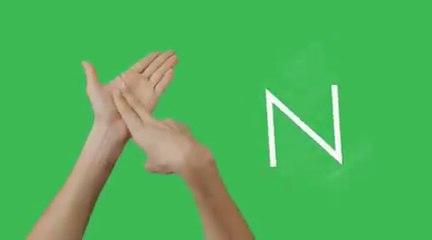N: (70, 45, 231, 190)
